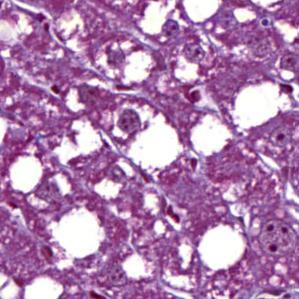steatosis: (198, 226, 248, 268), (4, 151, 47, 194)
